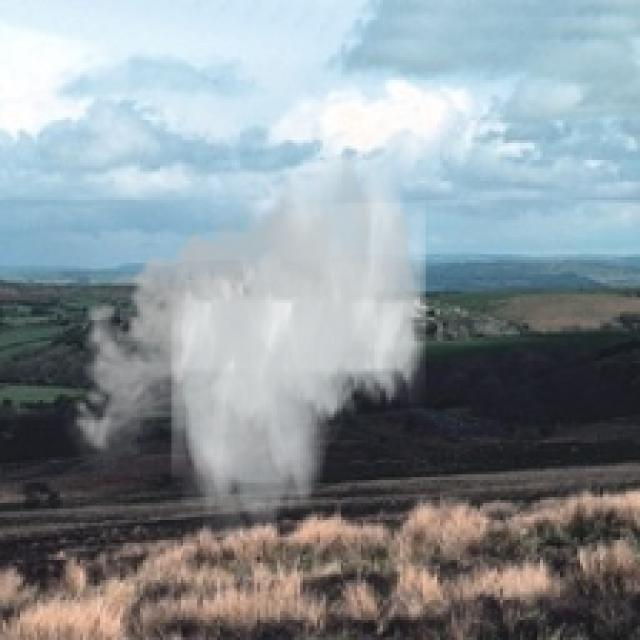Smoke: (63, 131, 426, 540)
